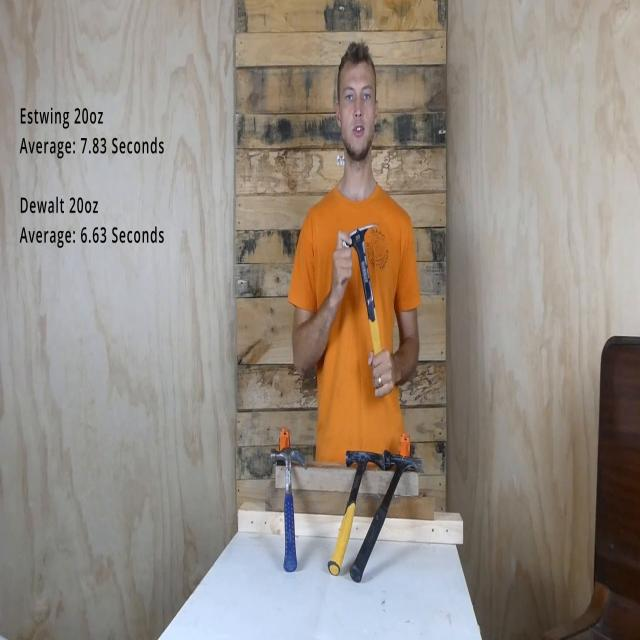hammer: (349, 449, 427, 584), (340, 225, 396, 391), (323, 443, 387, 579), (267, 444, 309, 574)
